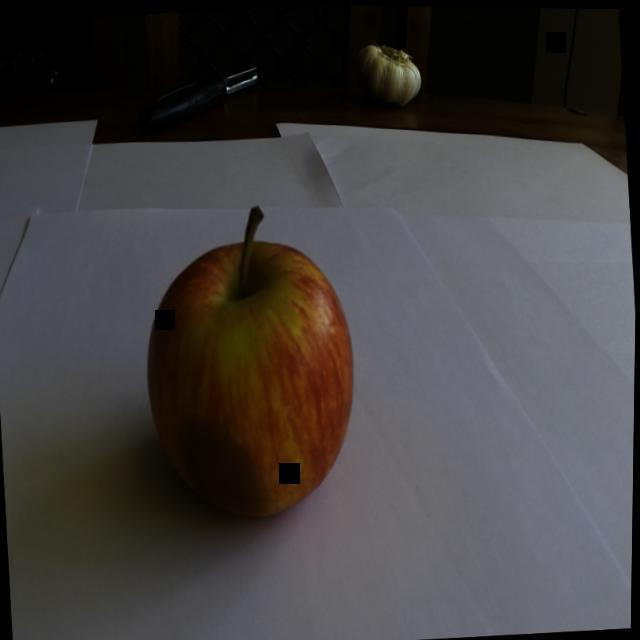Apple: (110, 185, 388, 543)
